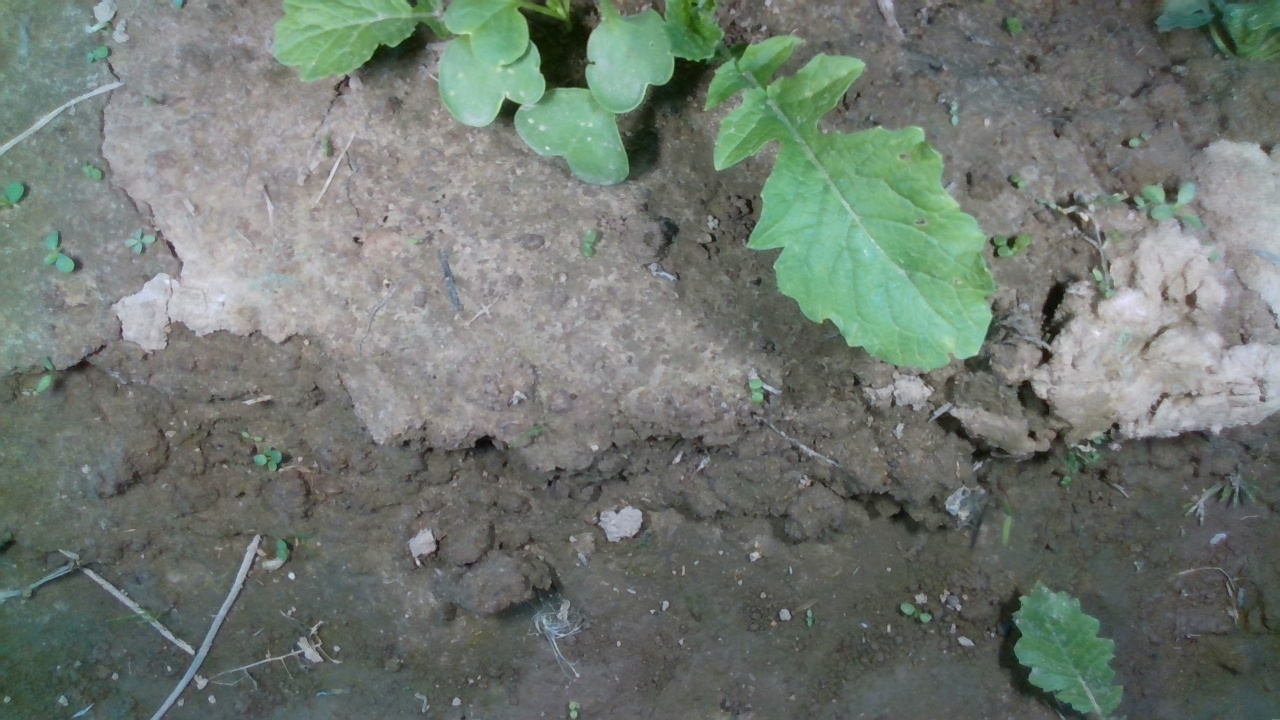weed: (42, 226, 75, 274), (250, 442, 284, 474), (123, 226, 156, 257), (899, 601, 933, 623), (81, 43, 110, 65), (578, 227, 599, 257), (1124, 129, 1155, 149), (78, 160, 105, 182), (747, 377, 767, 404), (1007, 171, 1027, 191), (947, 99, 961, 127), (240, 430, 264, 442), (565, 698, 578, 718), (805, 608, 814, 630), (1059, 473, 1072, 486)
